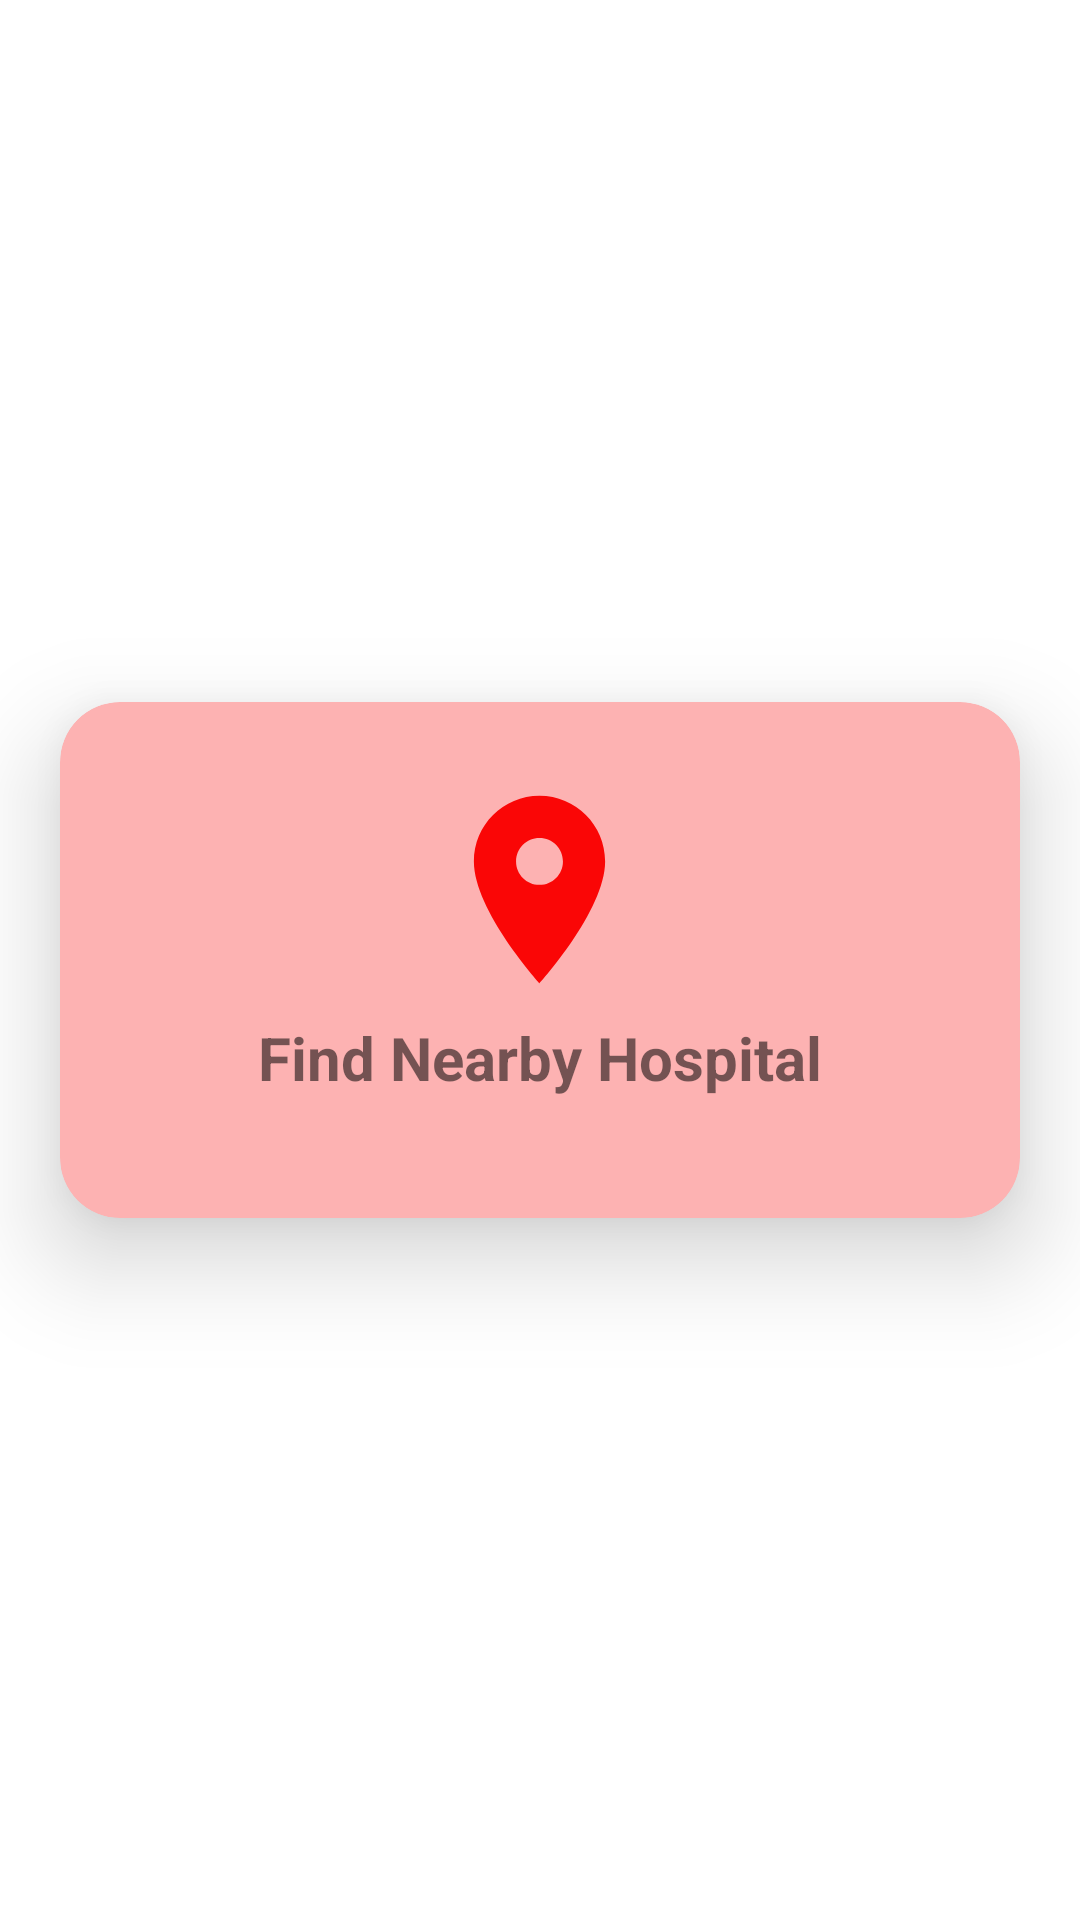

Locate icon controls on the screen. Image size 1080w x 1920h, boxes as bbox=(x1, y1, x2, y2).
location on: bbox=(474, 795, 605, 983)
